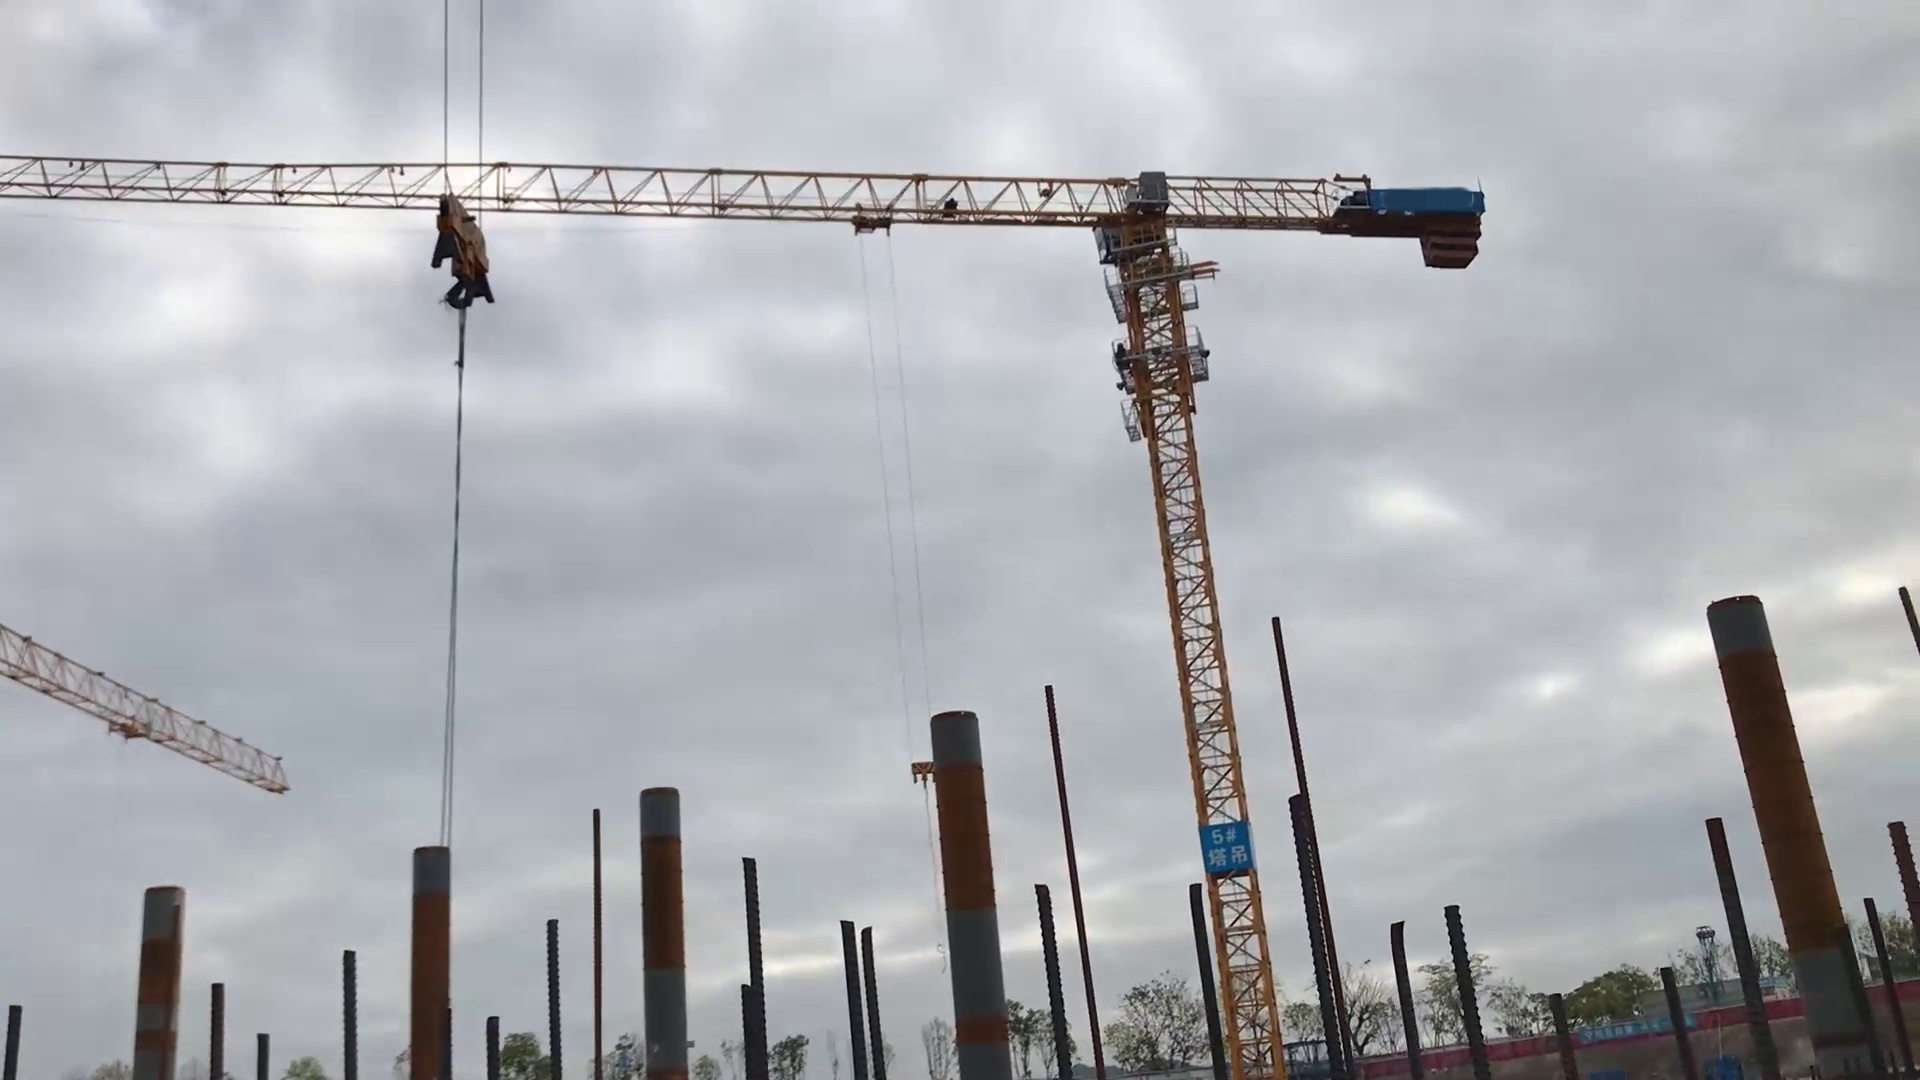hook: (425, 186, 493, 320)
